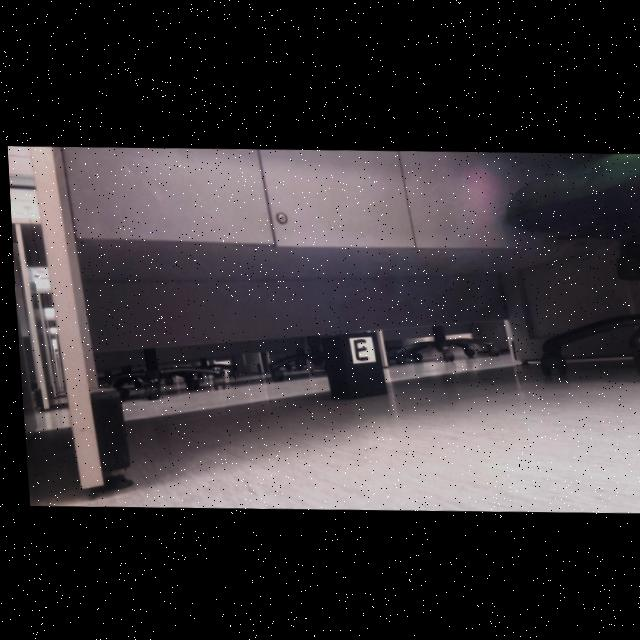E: (350, 337, 365, 358)
